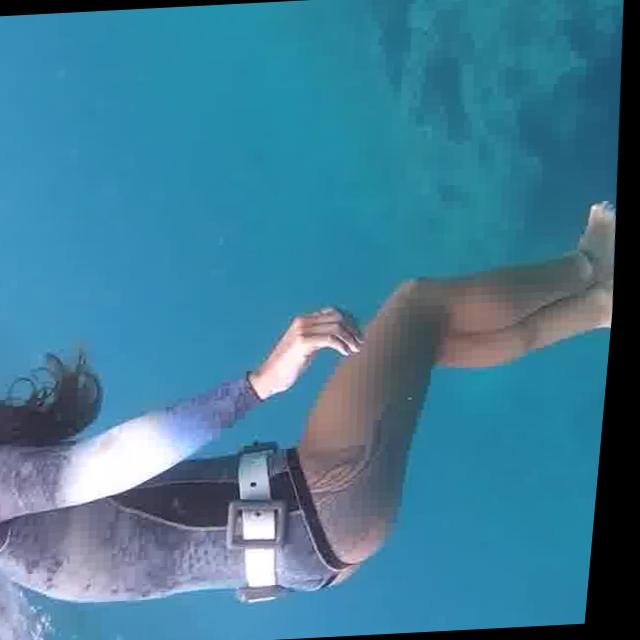human: (0, 196, 626, 627)
